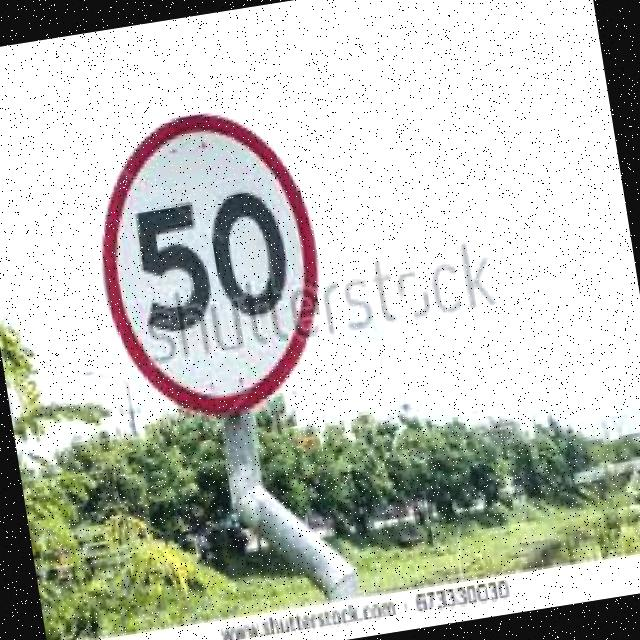Ograniczenie predkosci do 50: (84, 100, 338, 424)
